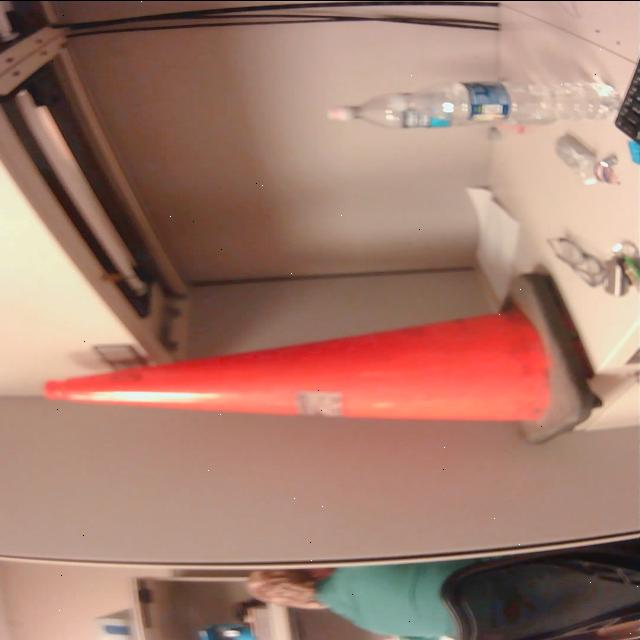traffic cone: (37, 269, 615, 450)
